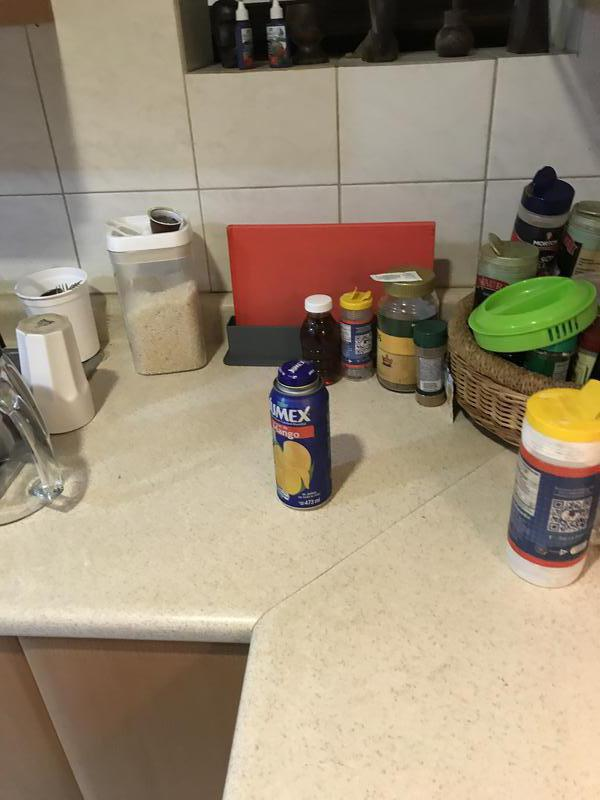jugo_jumex: (271, 360, 335, 509)
